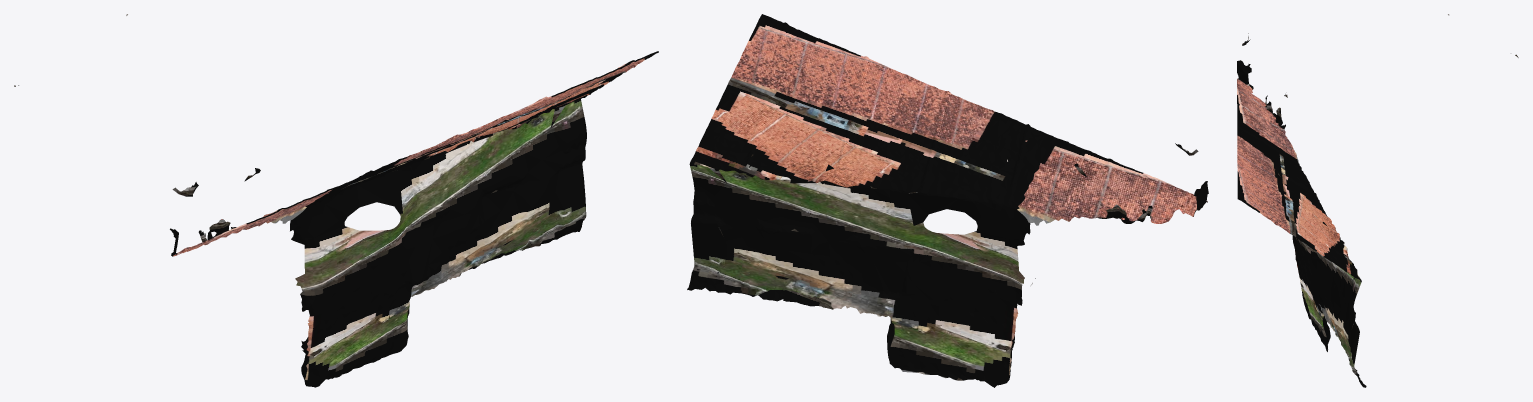
3 views of the same model, side by side, from view 1: azimuth 30°, elevation 25°; view 2: azimuth 150°, elevation 25°; view 3: azimuth 270°, elevation 25° (orthographic). The views are drawn at different scales.
Visible parts, largest first — view 1: node_35; view 2: node_35; view 3: node_35.
Boxes of the visible parts, left/top/right/bottom form: node_35: left=14, top=14, right=658, bottom=387; node_35: left=687, top=14, right=1208, bottom=387; node_35: left=1237, top=14, right=1518, bottom=387.
Size of the model in its own units: 23.25 by 15.41 by 14.8.
1 material, 1 textured.
